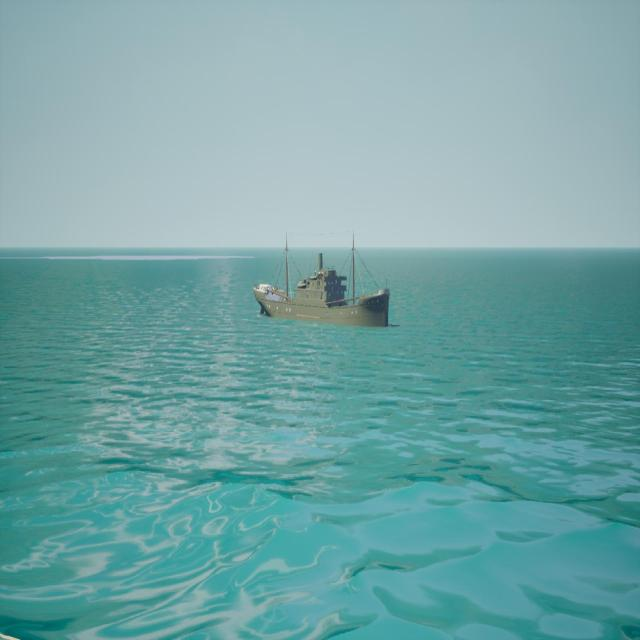fishing ship: (254, 234, 392, 331)
